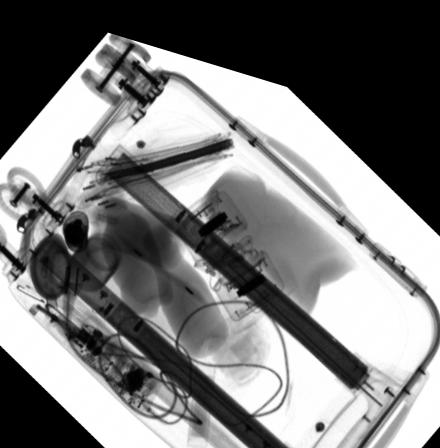Baton: (67, 308, 164, 398)
